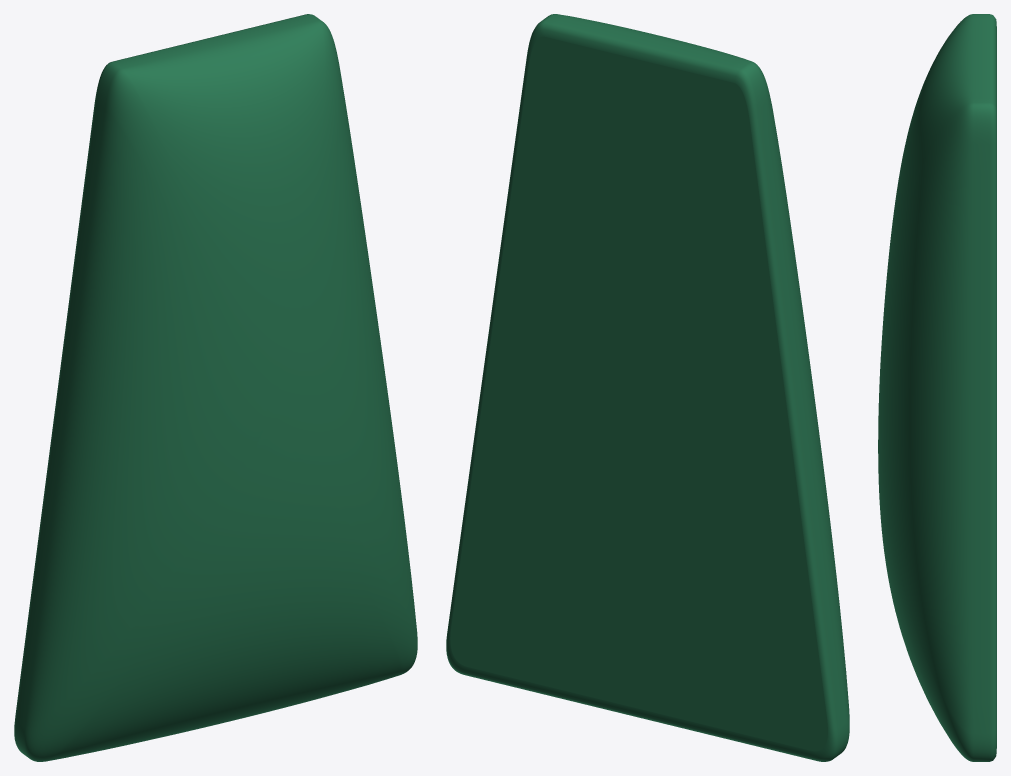
The model's file is ladder-trapezoid.glb.
3 renders of one model, left to right at view 1: azimuth 30°, elevation 25°; view 2: azimuth 150°, elevation 25°; view 3: azimuth 270°, elevation 25°, orthographic. The views are drawn at different scales.
Parts seen in each view (by area): view 1: Ladder-Trapezoid Cabochon 23x14x4mm; view 2: Ladder-Trapezoid Cabochon 23x14x4mm; view 3: Ladder-Trapezoid Cabochon 23x14x4mm.
Boxes of the visible parts, x1,y1,x2,y2 form: Ladder-Trapezoid Cabochon 23x14x4mm: (14, 14, 417, 761); Ladder-Trapezoid Cabochon 23x14x4mm: (446, 14, 849, 761); Ladder-Trapezoid Cabochon 23x14x4mm: (878, 14, 996, 761).
Bounding box in the file's own units: 0.014 × 0.023 × 0.00398.
